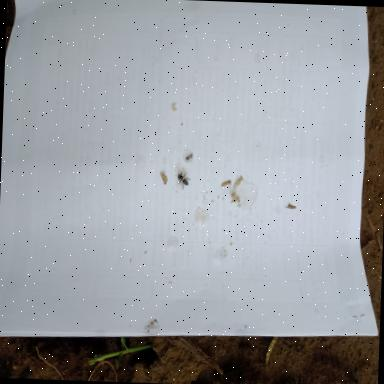pbw: (234, 176, 244, 188), (230, 188, 237, 202), (220, 180, 231, 188), (160, 171, 166, 184), (286, 204, 296, 210)
